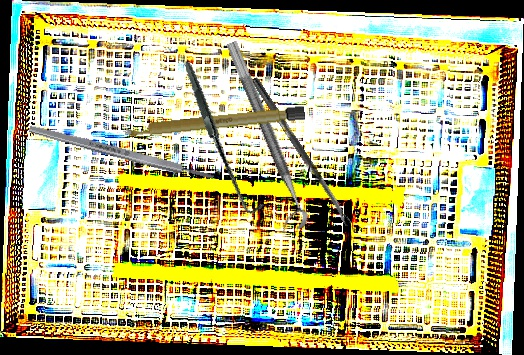Fixation Ring: (210, 40, 312, 235)
Hook Surgical: (146, 60, 300, 217)
Scalpel Handle: (28, 123, 215, 183), (122, 105, 306, 139)
Surgical Spoon: (250, 76, 352, 228)
